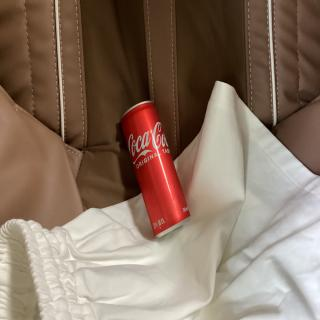cocacola: (114, 92, 194, 242)
